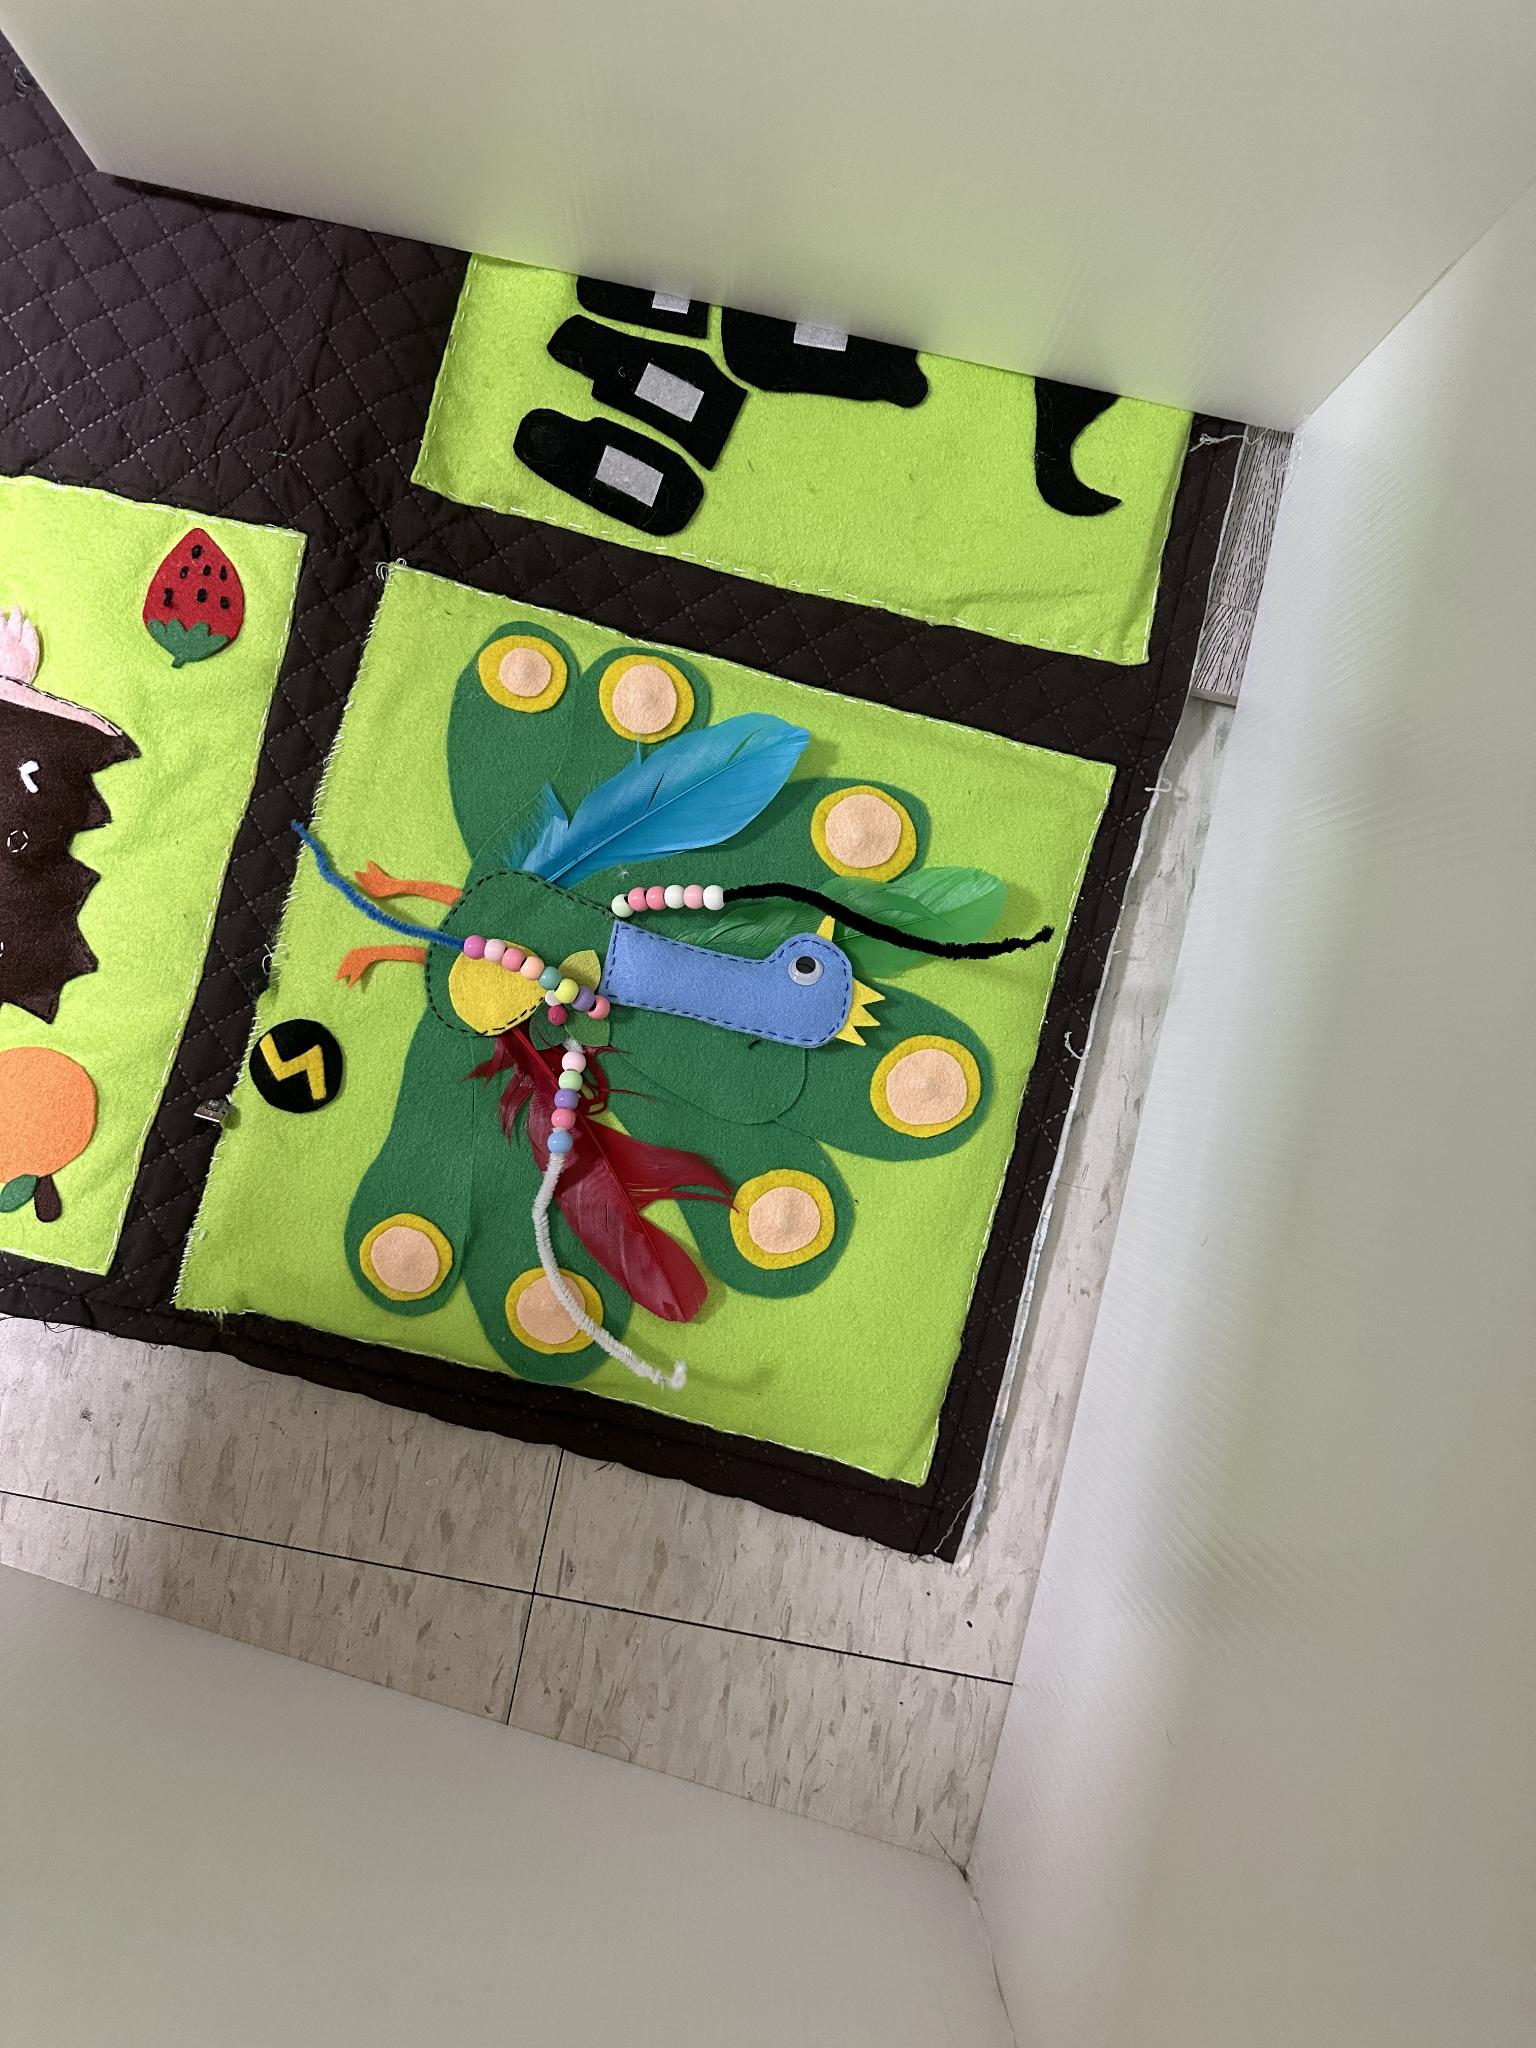bead: (587, 992, 611, 1018), (553, 979, 578, 1003), (573, 985, 594, 1009), (484, 937, 507, 958), (558, 1071, 582, 1090), (550, 1127, 571, 1148), (611, 897, 632, 918), (705, 885, 724, 908), (523, 955, 541, 979), (542, 966, 560, 990), (684, 884, 702, 908), (645, 885, 665, 906), (552, 1092, 579, 1106), (503, 948, 523, 968), (553, 1109, 576, 1126), (629, 887, 645, 910), (466, 937, 484, 956), (563, 1055, 584, 1071), (665, 885, 681, 906)
